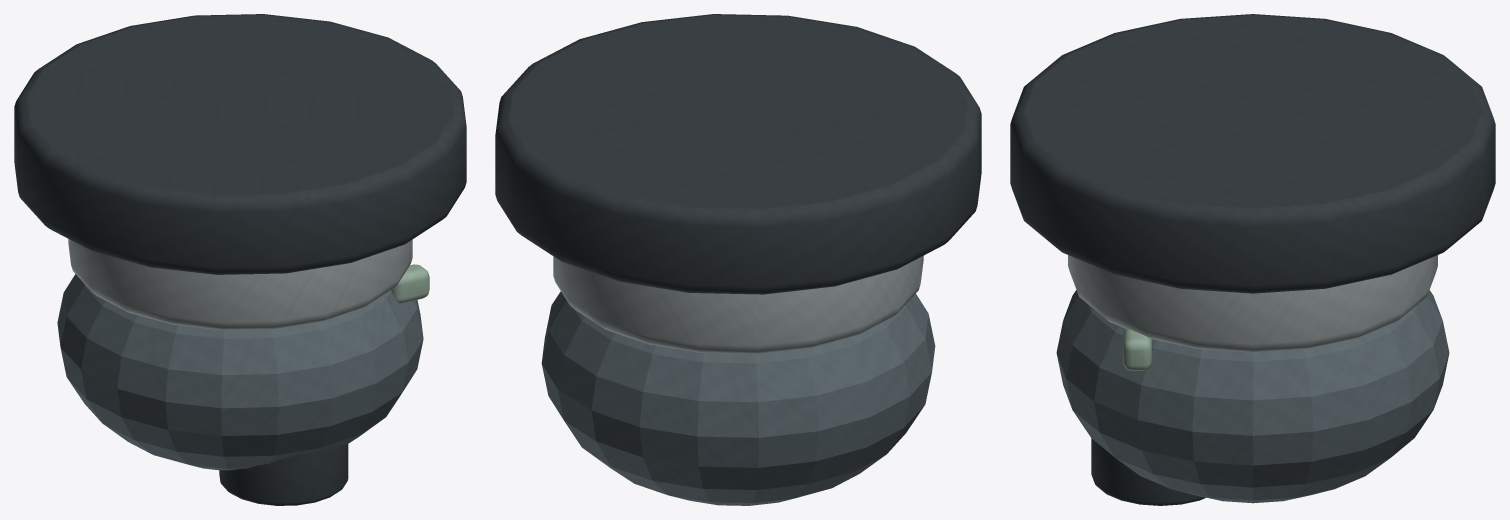
Rendered from CeilingDomeCamera.fbx.
3 renders of one model, left to right at view 1: azimuth 30°, elevation 25°; view 2: azimuth 150°, elevation 25°; view 3: azimuth 270°, elevation 25°, orthographic. The views are drawn at different scales.
Visible parts, largest first — view 1: CeilingDomeCamera_Mesh; view 2: CeilingDomeCamera_Mesh; view 3: CeilingDomeCamera_Mesh.
Boxes of the visible parts, x1,y1,x2,y2 form: CeilingDomeCamera_Mesh: (14,14,466,505); CeilingDomeCamera_Mesh: (495,14,981,505); CeilingDomeCamera_Mesh: (1010,14,1495,505).
Size of the model in its own units: 42 by 35 by 42.
5 materials, 5 textured.
